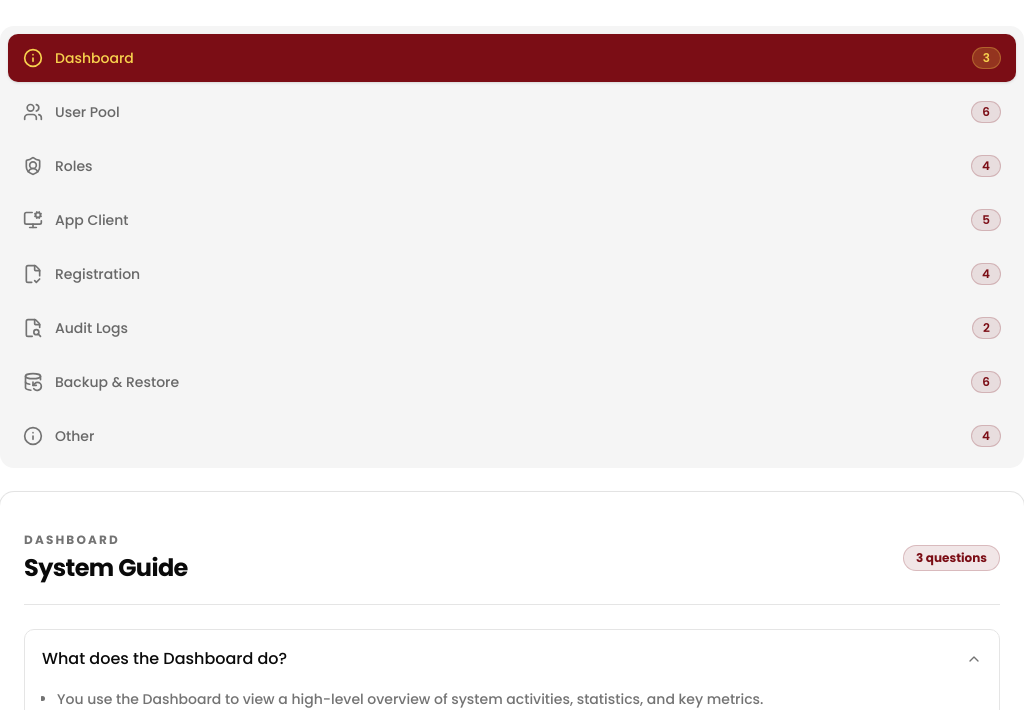
Test: FAQ Page › renders Backup & Restore tab trigger and questions when clicked
Click the tab "Backup & Restore 6" at (117, 382), box [8, 358, 1016, 406]
(page scrolled)
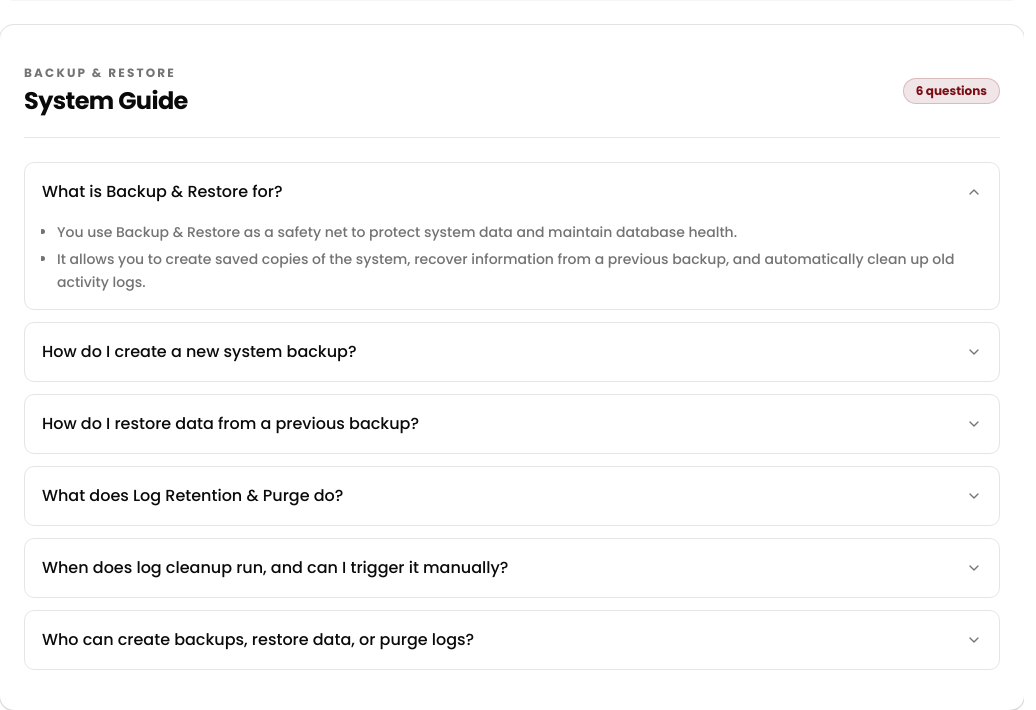
Now the button "What is Backup & Restore for?" is shown, box [41, 163, 983, 221]
Now the button "How do I create a new system backup?" is shown, box [41, 323, 983, 381]
Now the button "What does Log Retention & Purge do?" is shown, box [41, 467, 983, 525]
